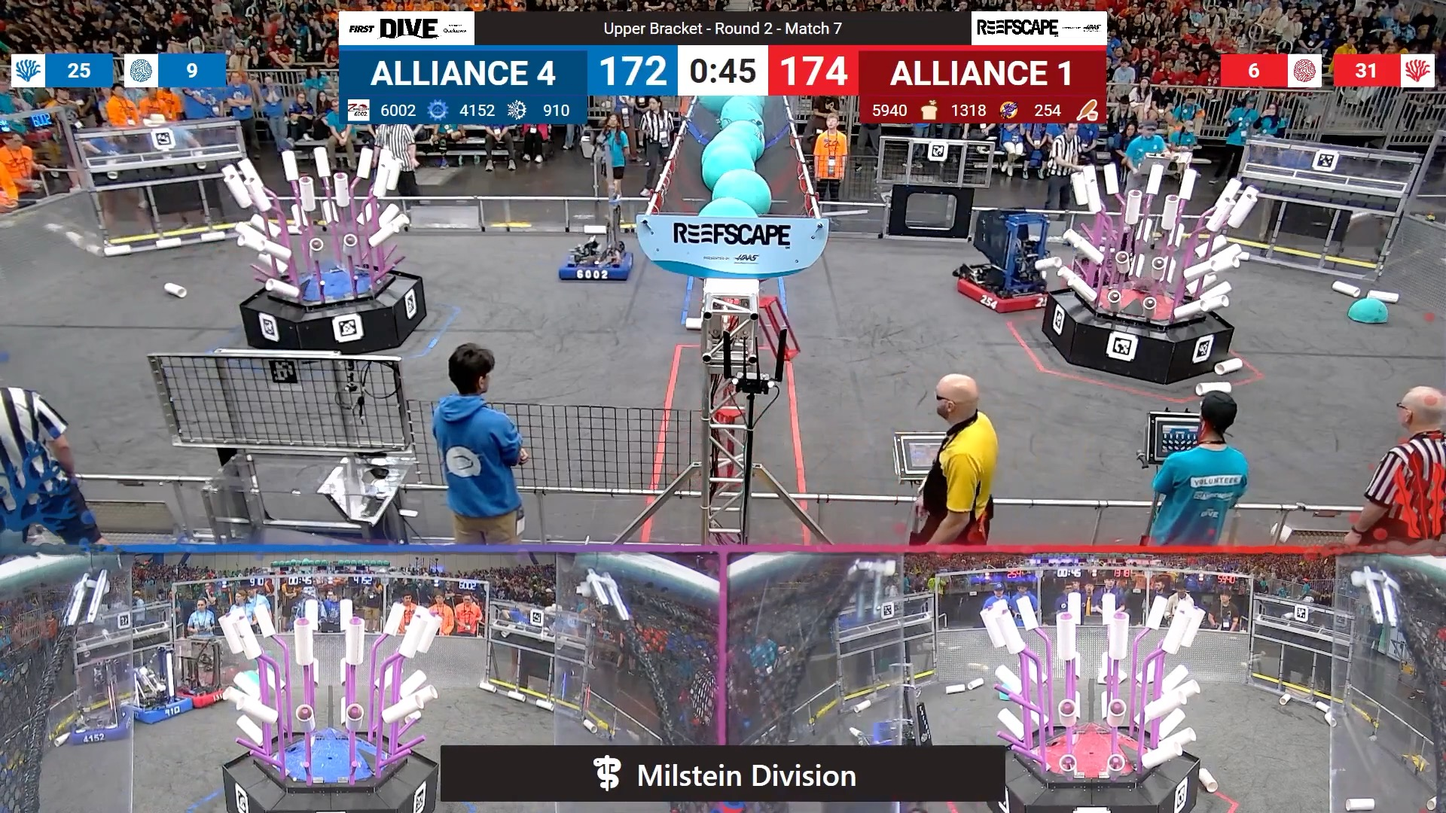bumpers: (952, 266, 1069, 316), (556, 245, 643, 285), (62, 710, 142, 749), (116, 696, 201, 728), (170, 685, 232, 706)
